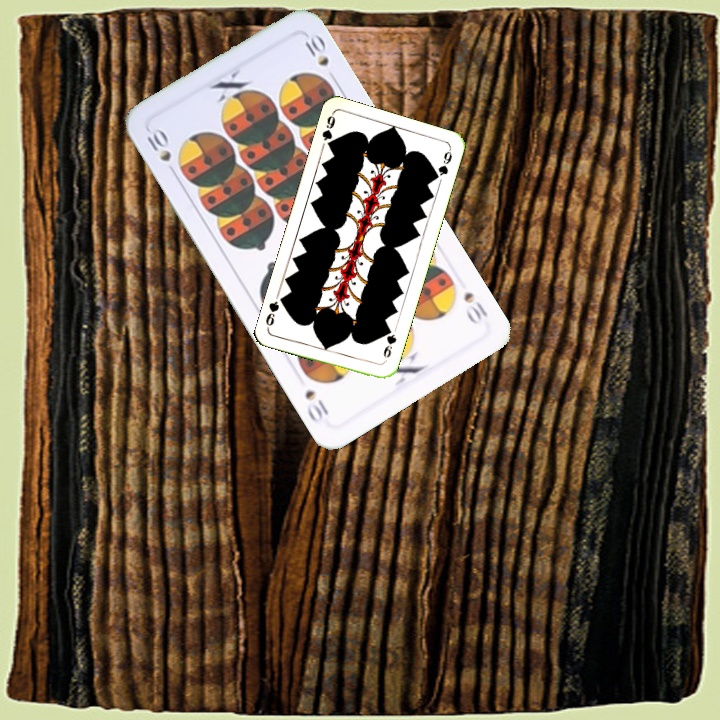G9: (318, 110, 338, 152), (379, 324, 399, 361)
S10: (141, 124, 180, 179), (459, 287, 491, 328)
